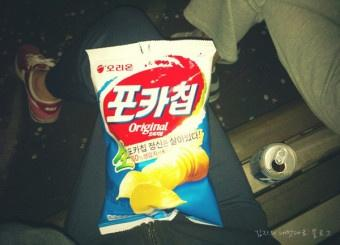snack: (85, 39, 224, 236)
